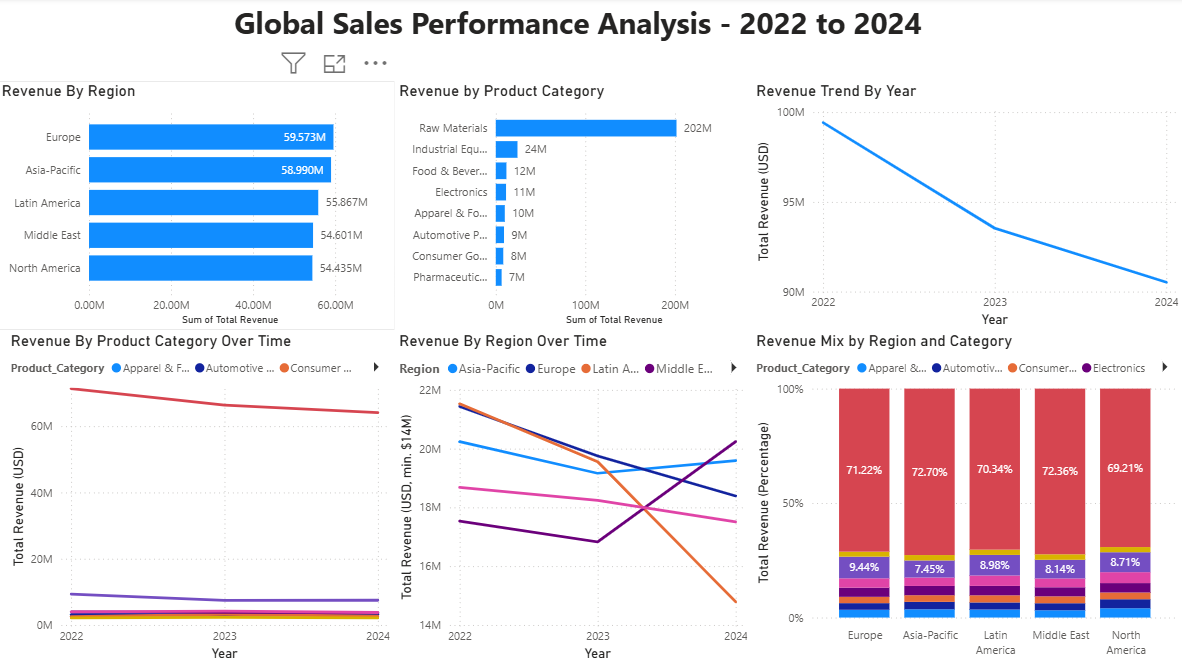

The dashboard page shown, as its layout file describes it:
{"tool":"powerbi","page":{"name":"Page 1","canvas":[1280,720],"ordinal":0},"visuals":[{"type":"clusteredBarChart","title":"Revenue By Region","fields":{"Category":["Global_Sales_Performance_Cleaned.Region"],"Y":["Sum(Global_Sales_Performance_Cleaned.Total_Revenue)"]},"box":[0,91.1,429,268.3],"z":0},{"type":"clusteredBarChart","title":"Revenue by Product Category","fields":{"Category":["Global_Sales_Performance_Cleaned.Product_Category"],"Y":["Sum(Global_Sales_Performance_Cleaned.Total_Revenue)"]},"box":[429,91.1,386,268.3],"z":1},{"type":"lineChart","title":"Revenue Trend By Year","fields":{"Category":["Global_Sales_Performance_Cleaned.Year"],"Y":["Sum(Global_Sales_Performance_Cleaned.Total_Revenue)"]},"box":[815,91.1,465.5,270],"z":2},{"type":"hundredPercentStackedColumnChart","title":"Revenue Mix by Region and Category","fields":{"Y":["Sum(Global_Sales_Performance_Cleaned.Total_Revenue)"],"Category":["Global_Sales_Performance_Cleaned.Region"],"Series":["Global_Sales_Performance_Cleaned.Product_Category"]},"box":[815,361.1,465.5,359.5],"z":3},{"type":"lineChart","title":"Revenue By Region Over Time","fields":{"Category":["Global_Sales_Performance_Cleaned.Year"],"Y":["Sum(Global_Sales_Performance_Cleaned.Total_Revenue)"],"Series":["Global_Sales_Performance_Cleaned.Region"]},"box":[429,361.1,386,359.5],"z":4},{"type":"lineChart","title":"Revenue By Product Category Over Time","fields":{"Category":["Global_Sales_Performance_Cleaned.Year"],"Y":["Sum(Global_Sales_Performance_Cleaned.Total_Revenue)"],"Series":["Global_Sales_Performance_Cleaned.Product_Category"]},"box":[9.9,361.1,419.1,359.5],"z":6},{"type":"textbox","box":[251.8,0,796.8,54.7],"z":7}]}

Visuals, with their boxes in screenshot pixels (x1, y1, x2, y2), scaled from the page's 1280x720 canvas onto the 1182x661 screenshot:
"Revenue By Region" clusteredBarChart: bbox=(0, 84, 396, 330)
"Revenue by Product Category" clusteredBarChart: bbox=(396, 84, 753, 330)
"Revenue Trend By Year" lineChart: bbox=(753, 84, 1181, 332)
"Revenue Mix by Region and Category" hundredPercentStackedColumnChart: bbox=(753, 332, 1181, 660)
"Revenue By Region Over Time" lineChart: bbox=(396, 332, 753, 660)
"Revenue By Product Category Over Time" lineChart: bbox=(9, 332, 396, 660)
textbox: bbox=(233, 0, 968, 50)
